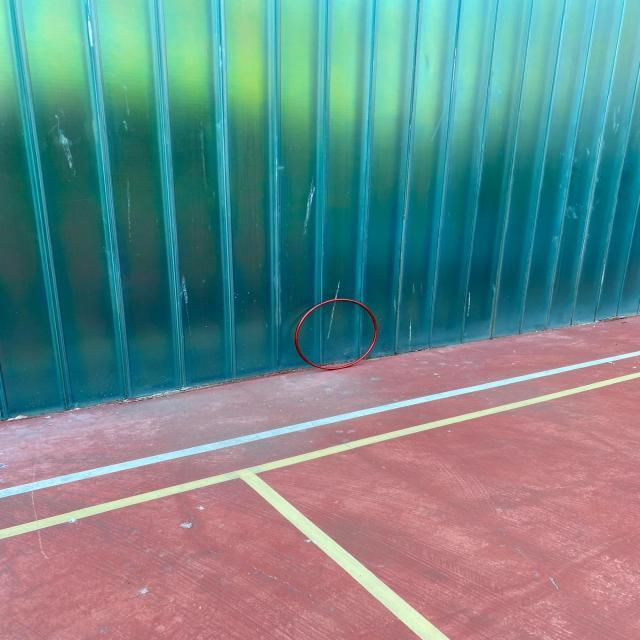Circle: (292, 297, 378, 370)
